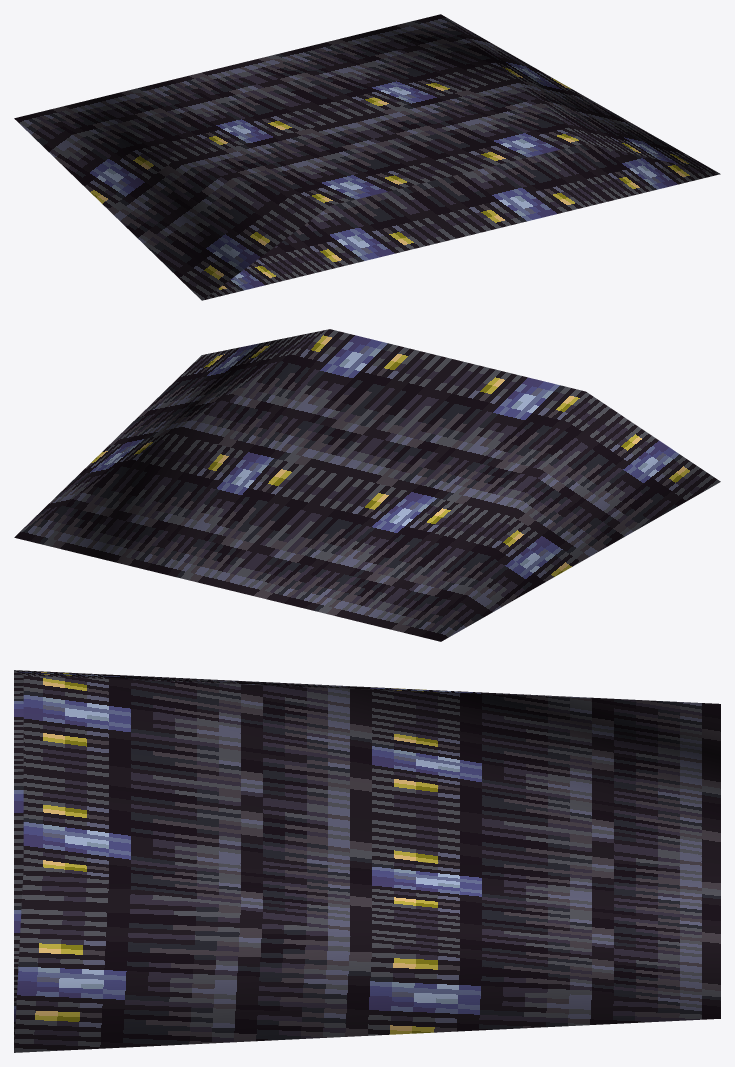
The model's file is 2325skirt00_c.gltf.
3 renders of one model, top to bottom at view 1: azimuth 30°, elevation 25°; view 2: azimuth 150°, elevation 25°; view 3: azimuth 270°, elevation 25°, orthographic. The views are drawn at different scales.
Parts seen in each view (by area): view 1: 2325skirt00_c; view 2: 2325skirt00_c; view 3: 2325skirt00_c.
Part boxes in pixels (x1=…): 2325skirt00_c: x1=14, y1=14, x2=720, y2=300; 2325skirt00_c: x1=14, y1=329, x2=720, y2=641; 2325skirt00_c: x1=14, y1=670, x2=720, y2=1052.
Size of the model in its own units: 0.7896 by 0.0879 by 0.6162.
1 material, 1 textured.
